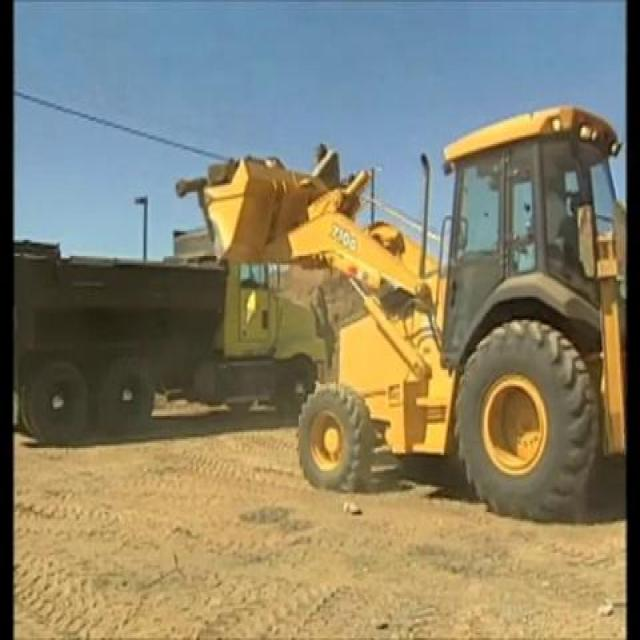buldozerpayloadergrader: (196, 101, 624, 523)
dump_truck: (12, 222, 328, 441)
